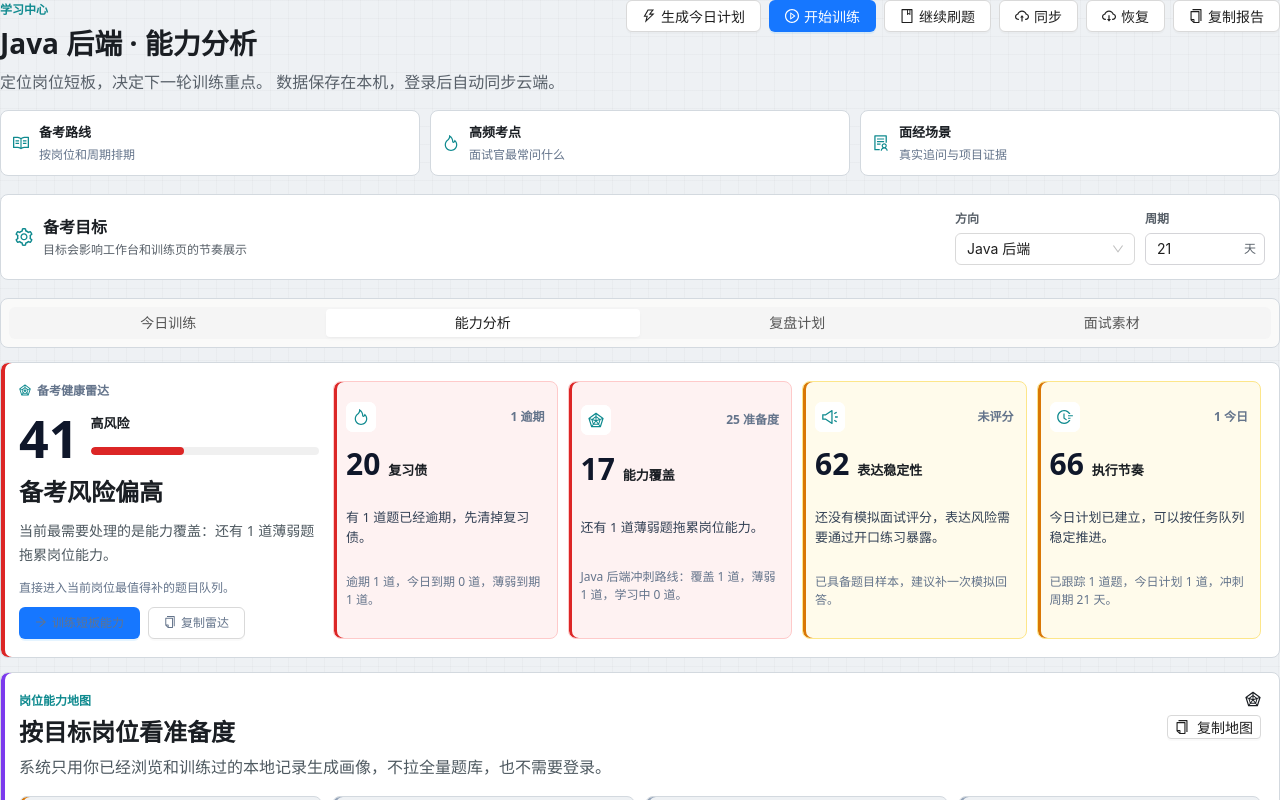
it: StudyPlan › switches the learning center between focused views
The image size is (1280, 800).
Expected: the heading "Java 后端 · 能力分析" is shown, [0,24,257,62]
Expected: the element labelled "备考健康雷达" is shown, [0,362,1279,658]
Click the text "面试素材" at (1112, 322), box [1084,314,1140,330]
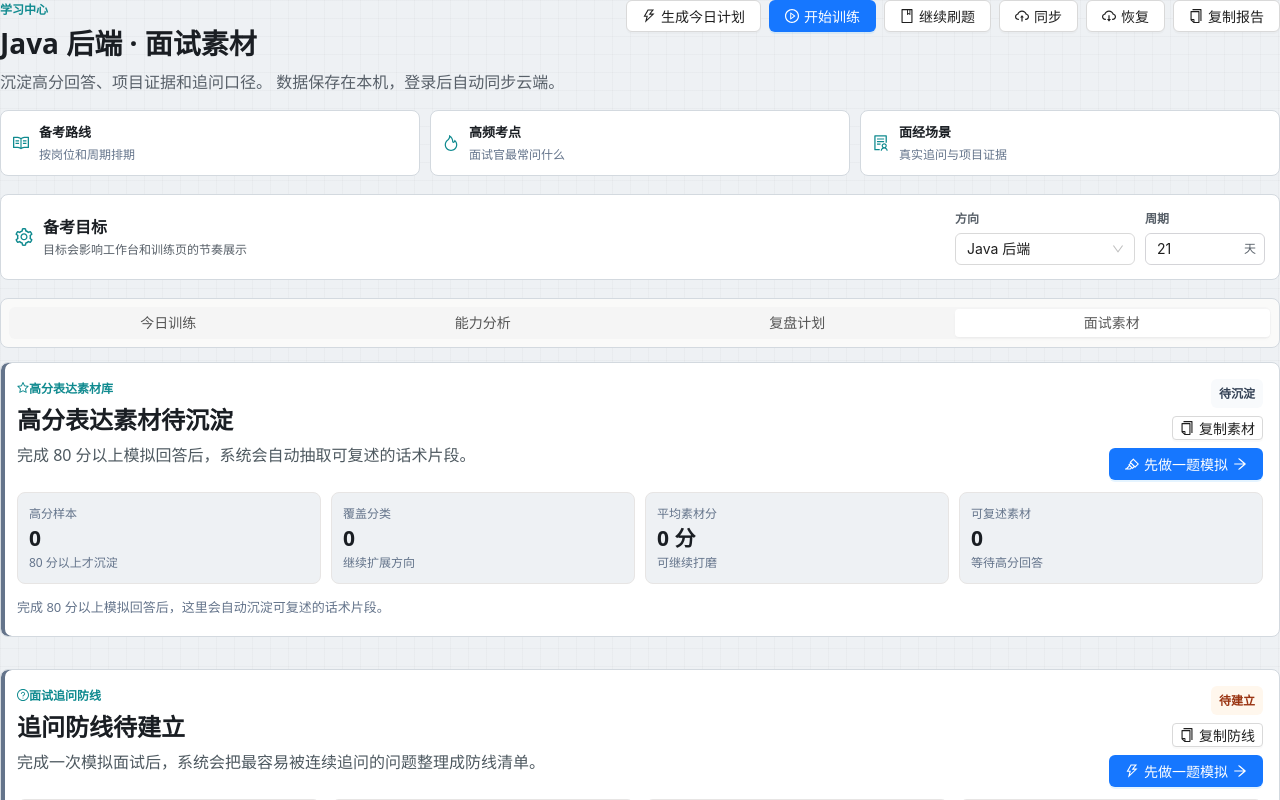
Result: the heading "Java 后端 · 面试素材" is shown at [0,24,257,62]
Result: the element labelled "高分表达素材库" is shown at [0,362,1279,637]
